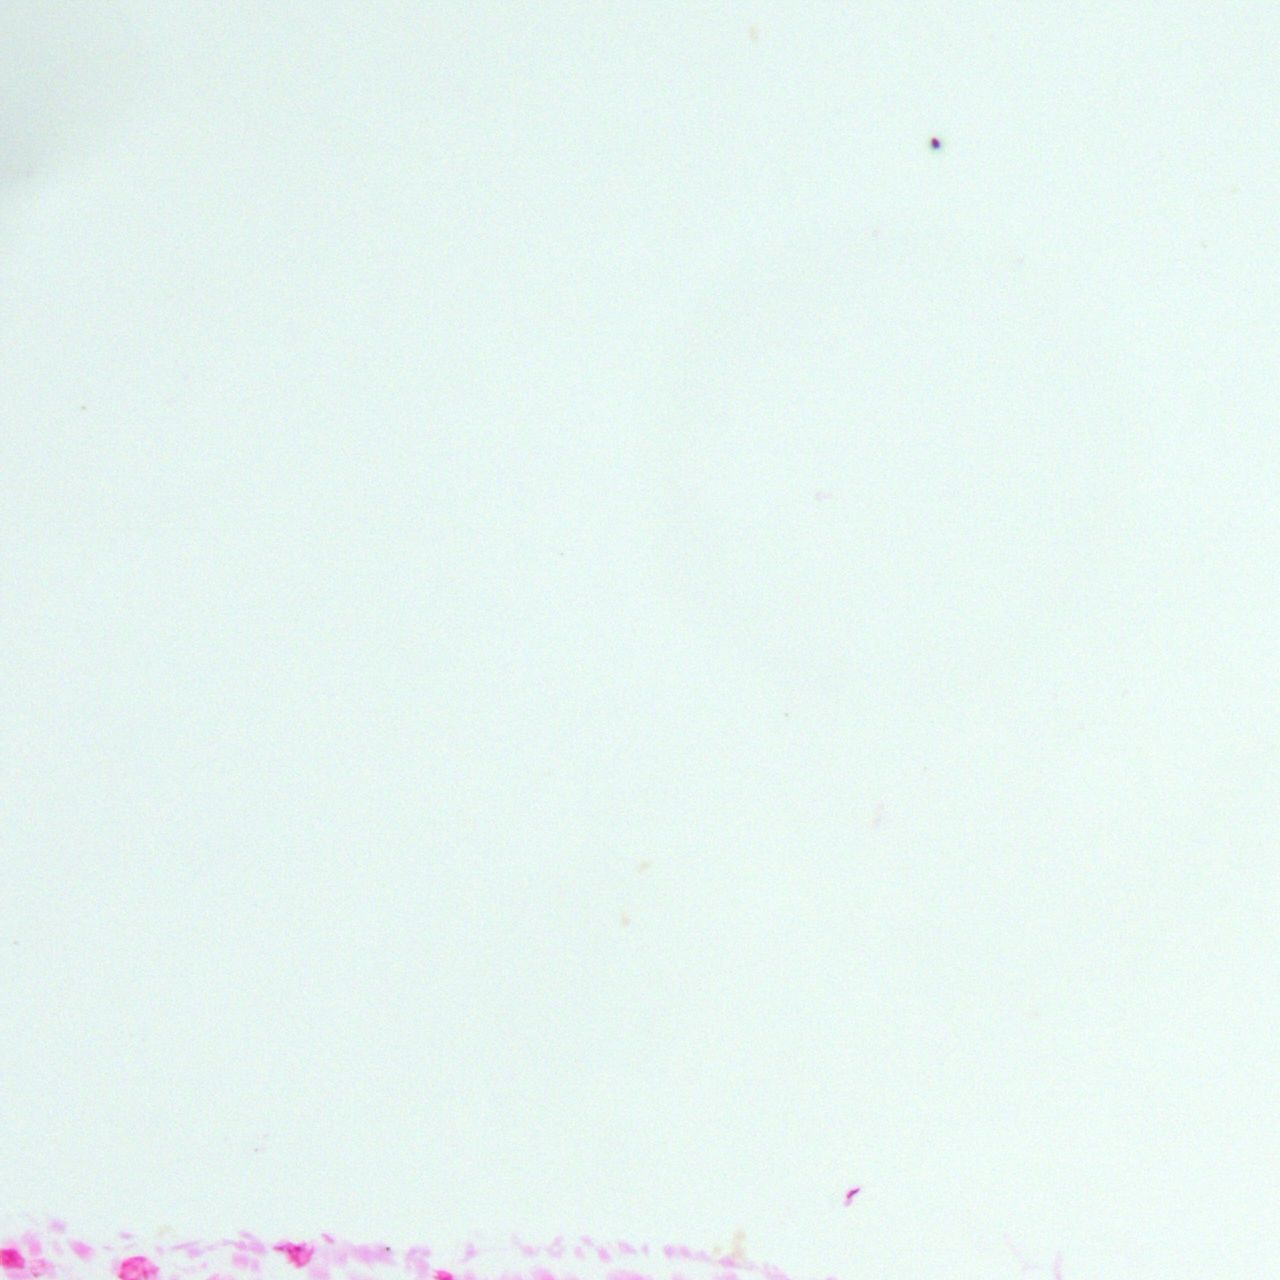dust: (930, 137, 942, 150), (384, 1246, 390, 1251)
nucleus-FG: (273, 1240, 313, 1268), (0, 1250, 25, 1269)
